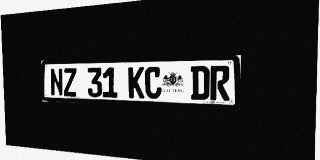1: (102, 67, 117, 98)
3: (87, 68, 102, 97)
C: (145, 67, 162, 99)
D: (191, 66, 209, 100)
K: (128, 67, 144, 98)
N: (50, 68, 63, 96)
R: (210, 66, 230, 101)
Z: (63, 68, 77, 97)
